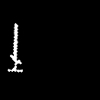double_crochet: (8, 24, 22, 71)
